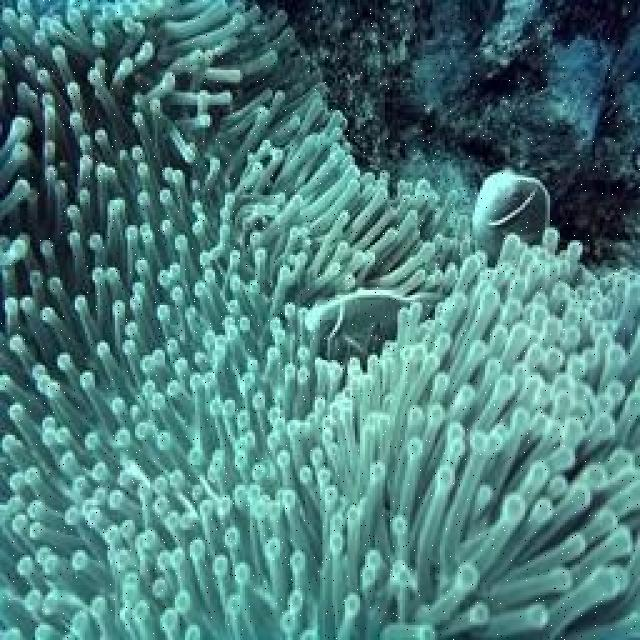fish: (310, 290, 445, 373), (471, 168, 551, 269)
